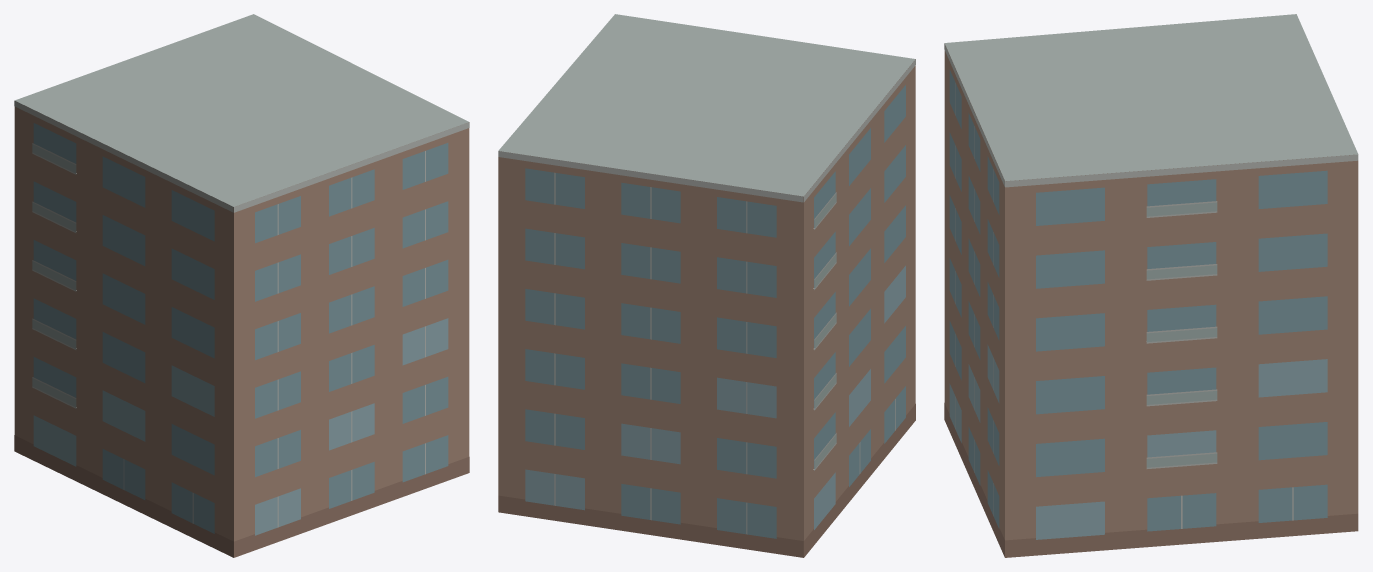
File: survey-upis-32881929.glb
3 renders of one model, left to right at view 1: azimuth 30°, elevation 25°; view 2: azimuth 150°, elevation 25°; view 3: azimuth 270°, elevation 25°, orthographic. The views are drawn at different scales.
Visible parts, largest first — view 1: survey-upis-32881929.tmp; view 2: survey-upis-32881929.tmp; view 3: survey-upis-32881929.tmp.
Boxes of the visible parts, bbox=[...] form: survey-upis-32881929.tmp: bbox=[14, 14, 469, 557]; survey-upis-32881929.tmp: bbox=[498, 14, 915, 557]; survey-upis-32881929.tmp: bbox=[944, 14, 1358, 557].
Bounding box in the file's own units: 13.9 × 14.6 × 14.55.
